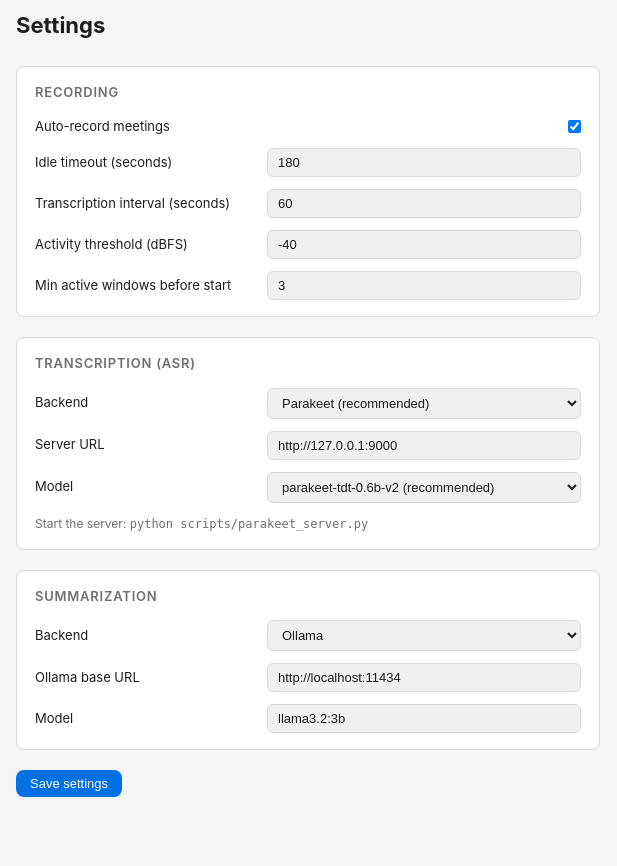
Test: SettingsPanel › shows error message when save fails
This screenshot has width=617, height=866.
Click the button "Save settings" at (69, 784), box [16,770,122,797]
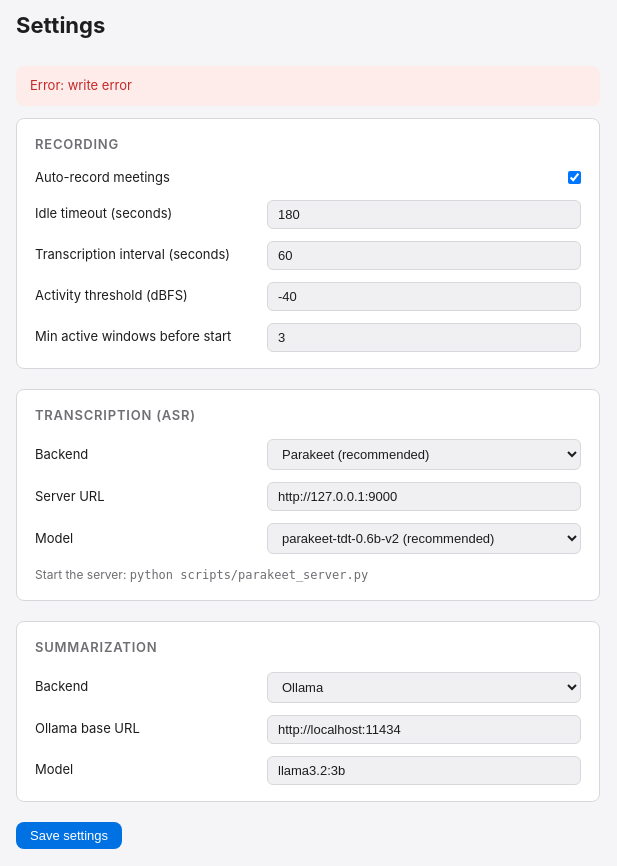
Now the text "Error: write error" is shown, box [16,66,600,106]
